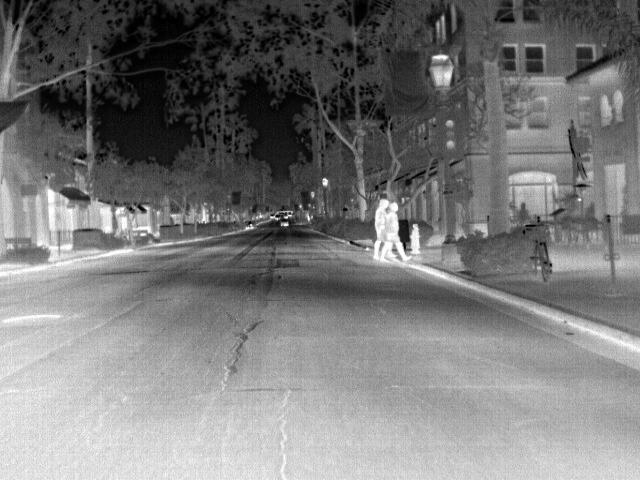car: (277, 214, 291, 228)
person: (380, 200, 412, 260), (372, 197, 390, 259)
